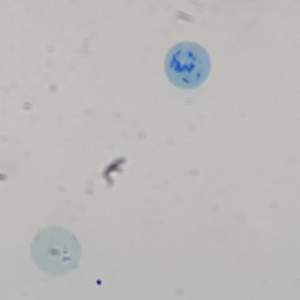aggregate reticulocyte: (162, 39, 213, 91)
erythrocyte: (28, 226, 84, 277)
